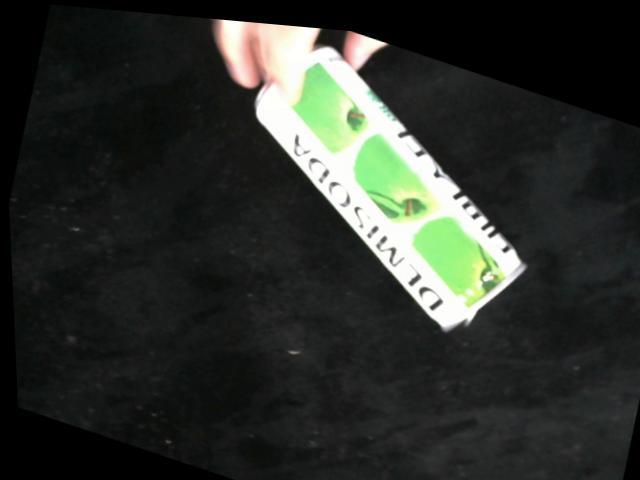can: (252, 24, 533, 333)
